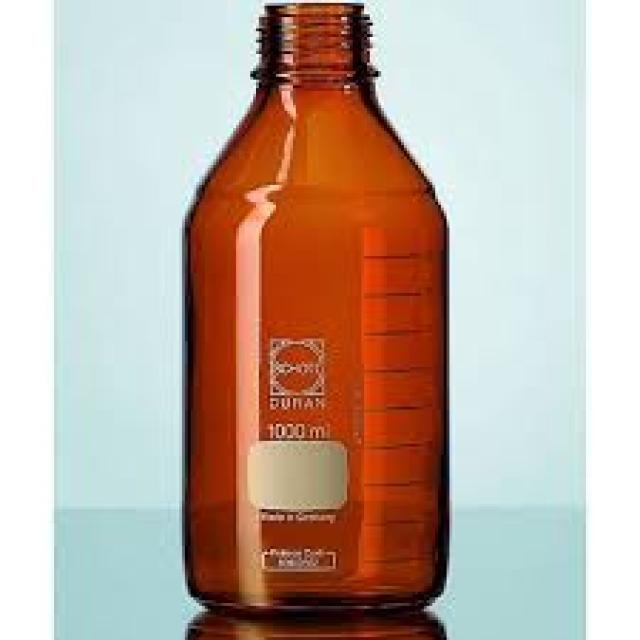Glass: (175, 0, 456, 619)
